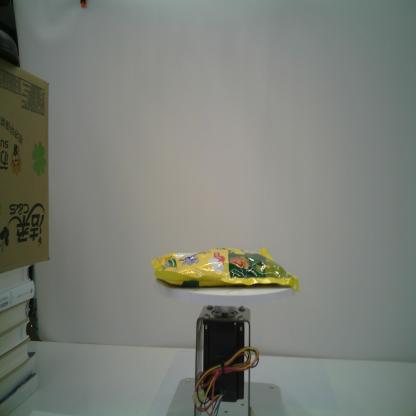Seasoner: (151, 246, 300, 292)
